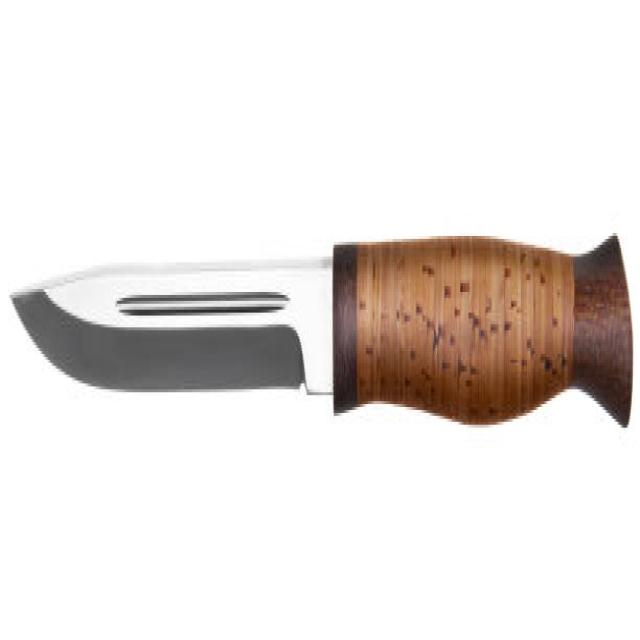knife: (5, 225, 638, 467)
